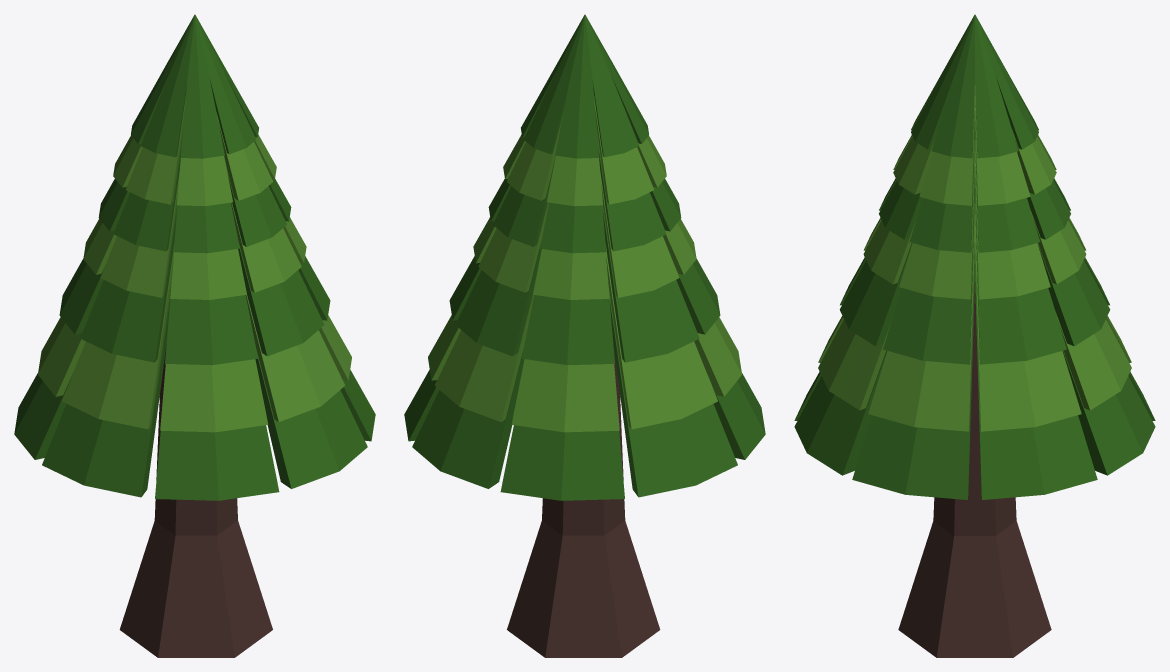
The model's file is Tree_33.fbx.
3 renders of one model, left to right at view 1: azimuth 30°, elevation 25°; view 2: azimuth 150°, elevation 25°; view 3: azimuth 270°, elevation 25°, orthographic.
Parts seen in each view (by area): view 1: Tree_33; view 2: Tree_33; view 3: Tree_33.
Part boxes in pixels (bbox=[...]): Tree_33: bbox=[14, 14, 375, 657]; Tree_33: bbox=[404, 14, 765, 657]; Tree_33: bbox=[794, 14, 1155, 657].
Bounding box in the file's own units: 524 × 985 × 524.
